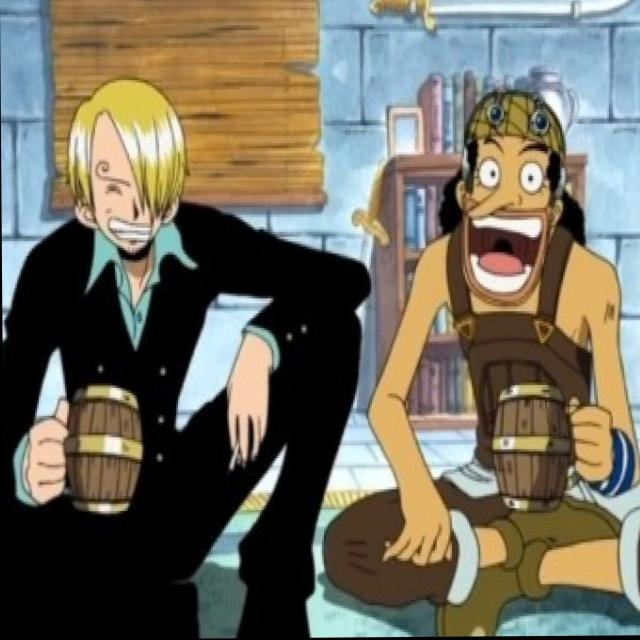Sangdi: (62, 64, 193, 266)
Usopp: (435, 84, 578, 319)
